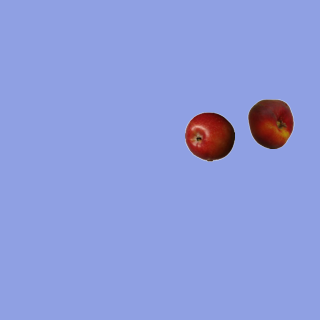Apple Braeburn: (184, 111, 234, 161)
Nectarine Flat: (245, 98, 295, 148)
